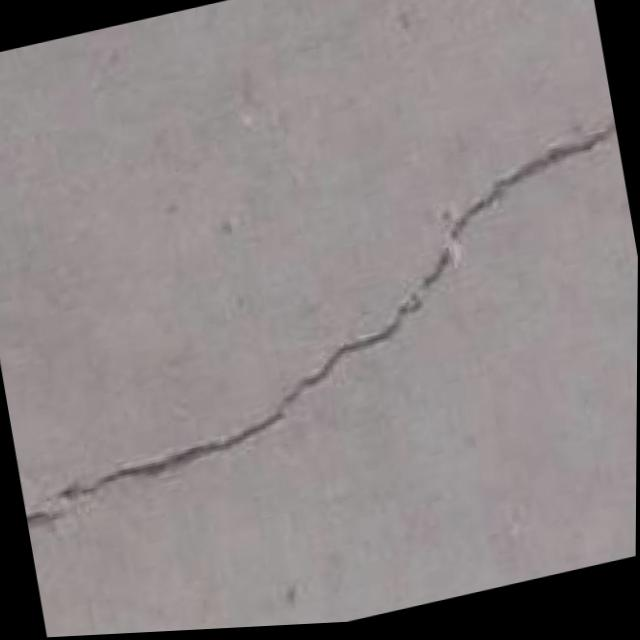Crack: (0, 121, 639, 535)
